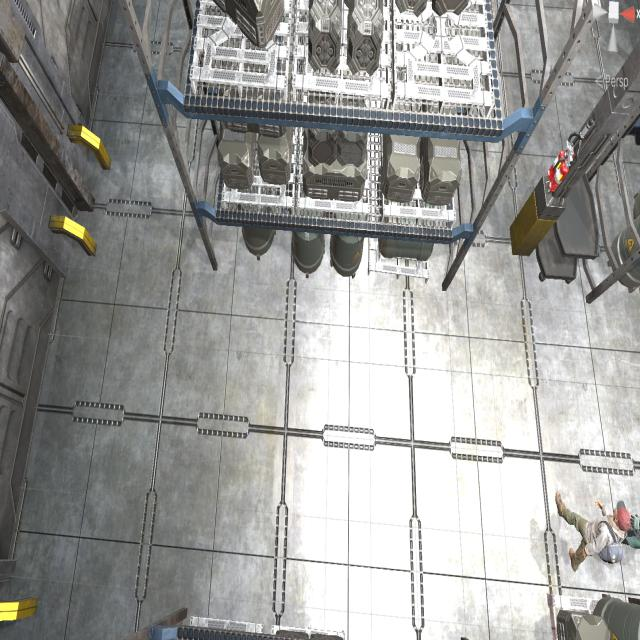thiefs: (555, 489, 631, 575)
